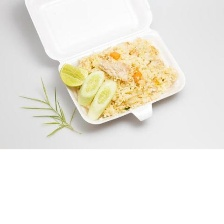foam_box: (21, 0, 191, 131)
